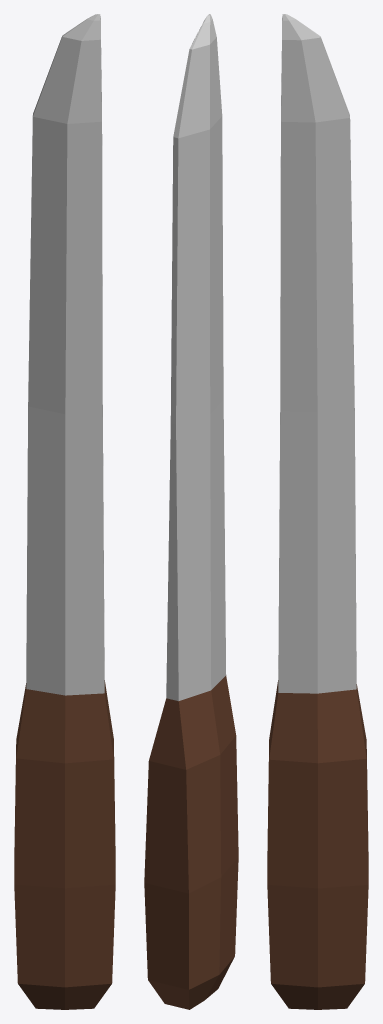
Rendered from Knife.fbx.
3 views of the same model, side by side, from view 1: azimuth 90°, elevation 25°; view 2: azimuth 150°, elevation 25°; view 3: azimuth 270°, elevation 25° (orthographic).
Visible parts, largest first — view 1: Cube; view 2: Cube; view 3: Cube.
Part boxes in pixels (x1,y1,x2,y2): Cube: [14, 14, 115, 1009]; Cube: [144, 14, 238, 1009]; Cube: [267, 14, 368, 1009].
Size of the model in its own units: 4.55 by 70.94 by 6.59.
